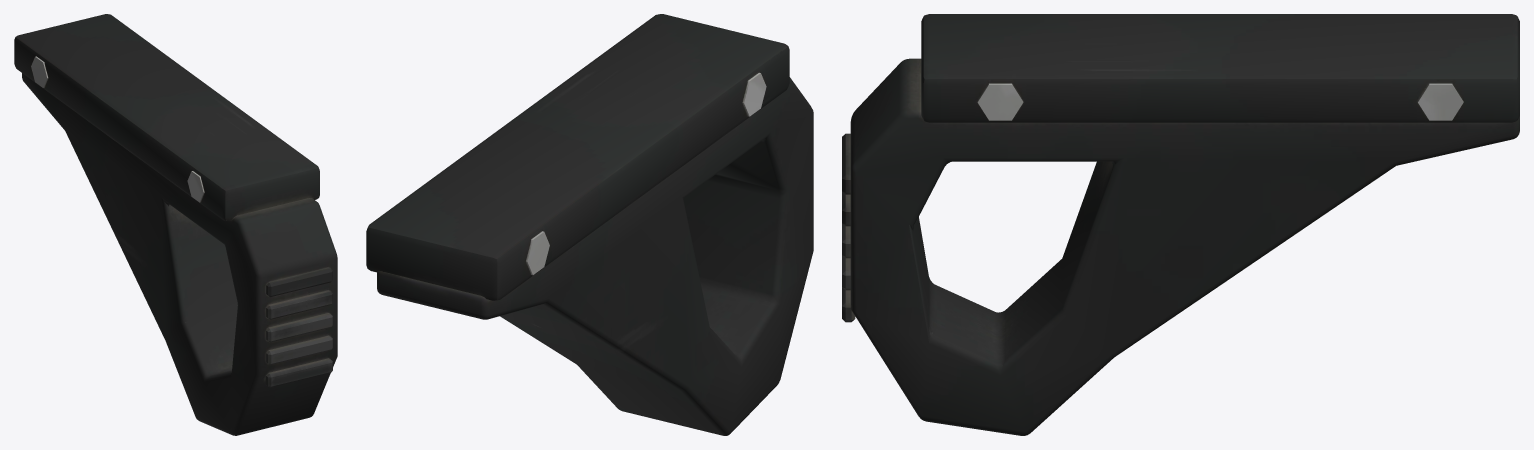
Rendered from batente_mao.glb.
3 views of the same model, side by side, from view 1: azimuth 30°, elevation 25°; view 2: azimuth 150°, elevation 25°; view 3: azimuth 270°, elevation 25° (orthographic). The views are drawn at different scales.
Parts seen in each view (by area): view 1: batente_mao_punho; view 2: batente_mao_punho; view 3: batente_mao_punho.
Part boxes in pixels (left/top/right/bottom): batente_mao_punho: left=14, top=14, right=337, bottom=435; batente_mao_punho: left=366, top=14, right=813, bottom=435; batente_mao_punho: left=842, top=14, right=1519, bottom=435.
Bounding box in the file's own units: 0.0184 × 0.0459 × 0.077.
1 material, 1 textured.
